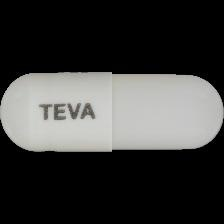0093-5553: (0, 0, 224, 224)
